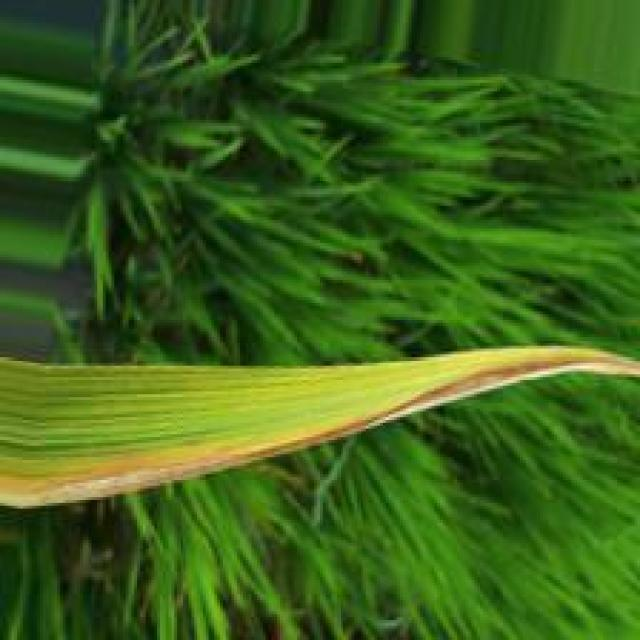Leaf_Scald: (0, 346, 640, 505)
